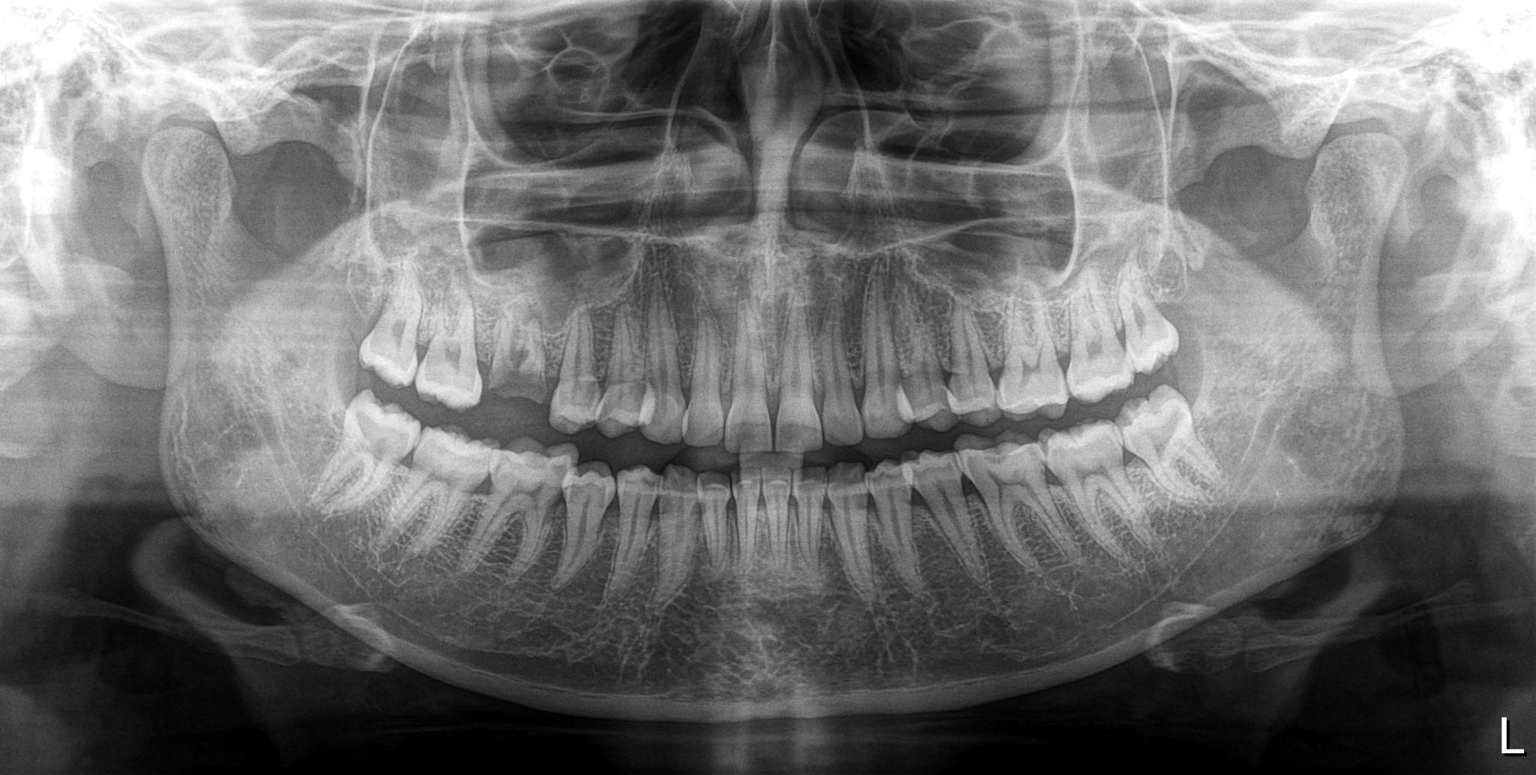Missing Tooth: (328, 287, 368, 383)
Retained Root: (480, 311, 548, 405)
